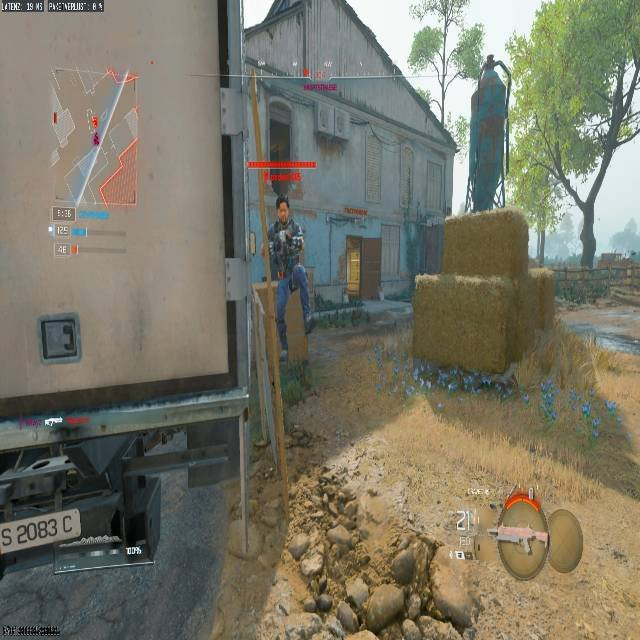head: (269, 185, 291, 213), (276, 196, 290, 223)
player: (267, 195, 306, 346)
